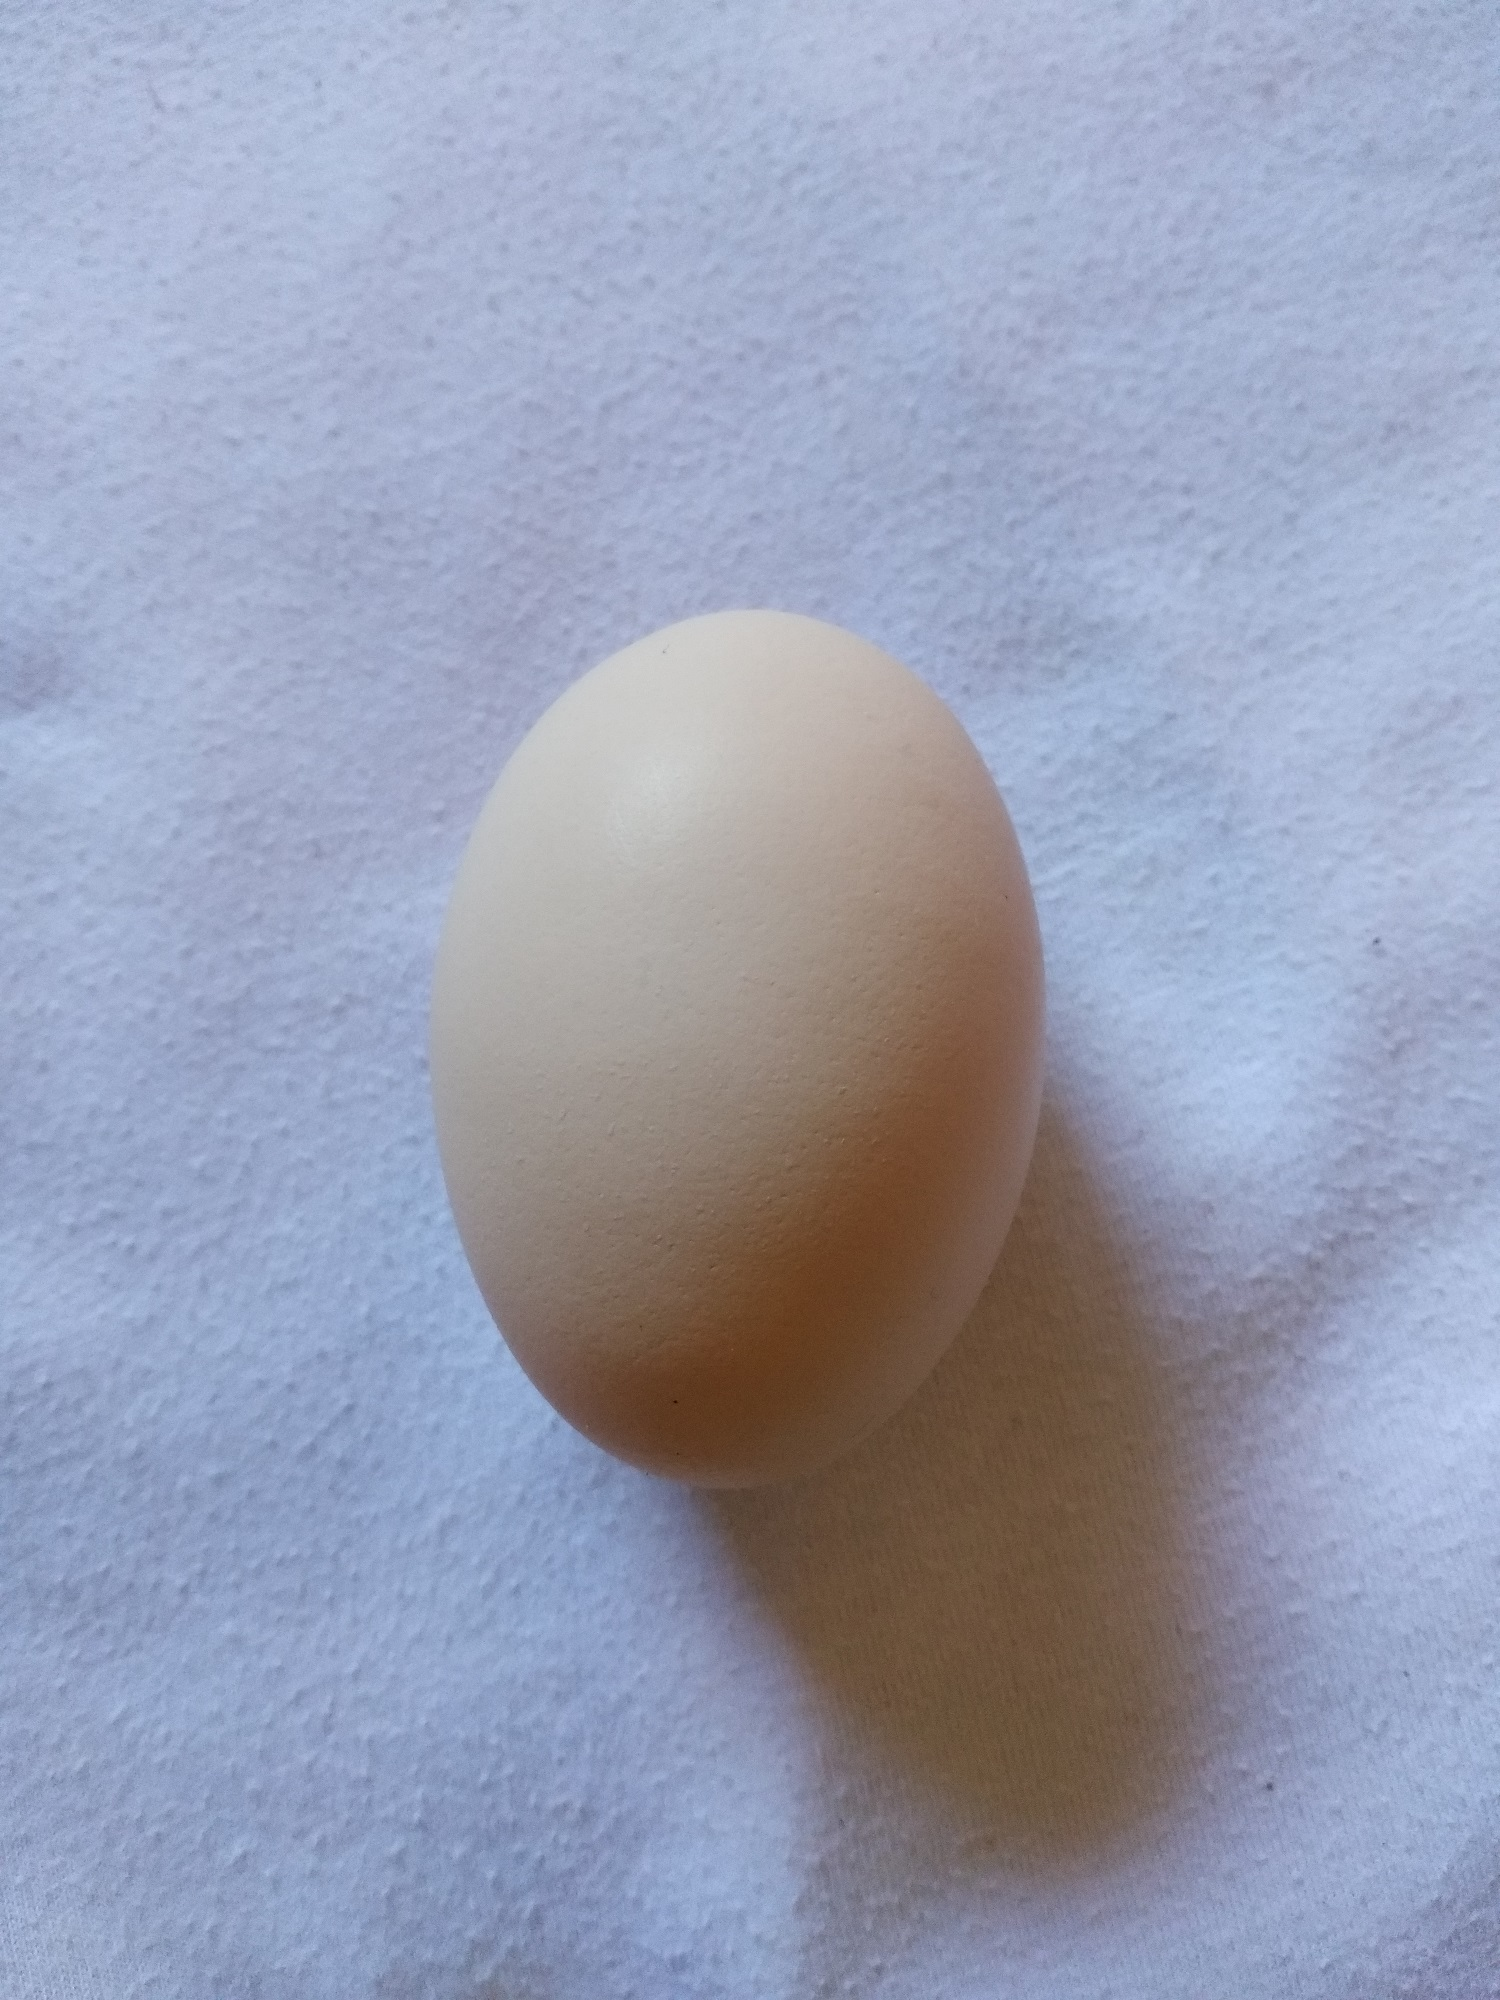Male: (421, 595, 1056, 1502)
